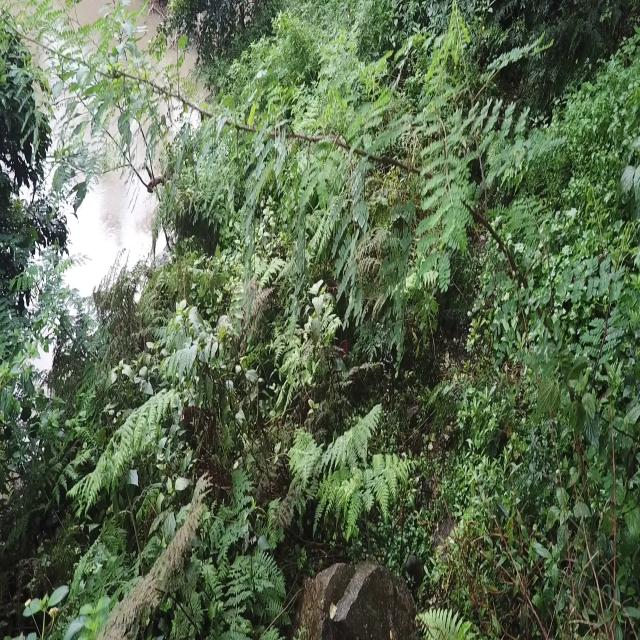Mysore-Thorn-Weed: (29, 0, 572, 365)
